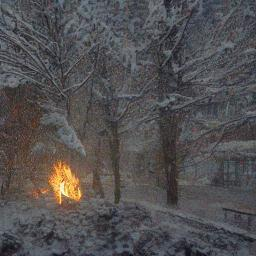Small fire: (43, 161, 84, 210)
